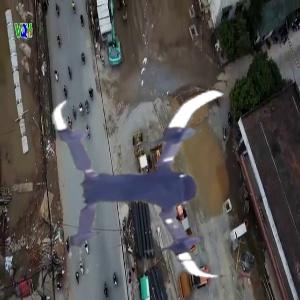drone: (51, 78, 268, 295)
